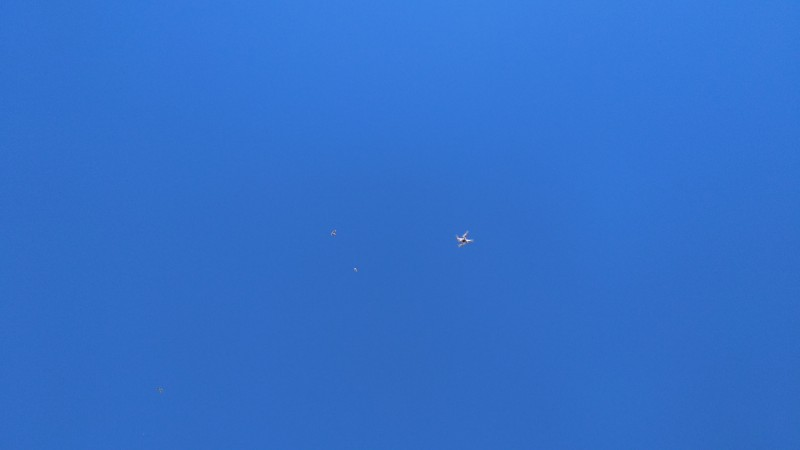drone: (455, 231, 474, 251)
